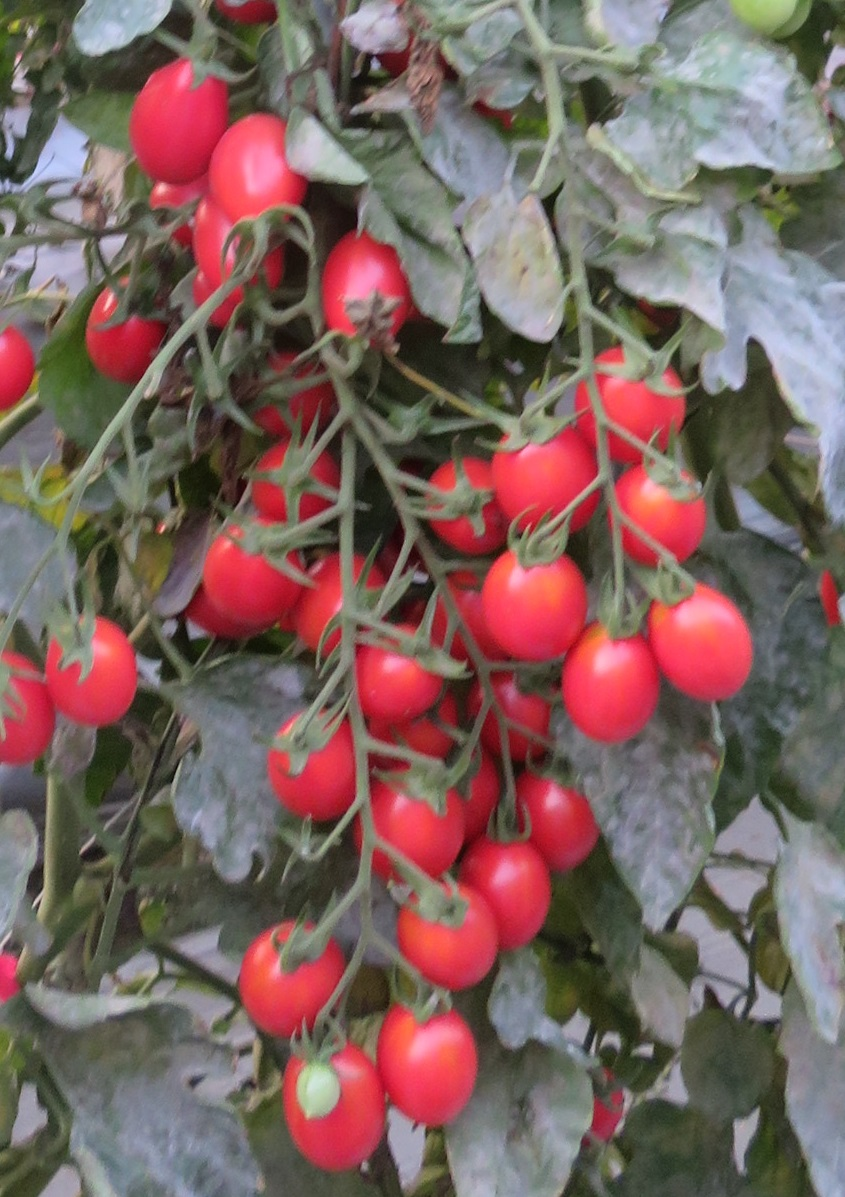red: (644, 583, 760, 703), (377, 1000, 485, 1128), (122, 60, 230, 186), (490, 416, 605, 533), (572, 350, 690, 464), (282, 1042, 387, 1167), (237, 917, 348, 1034), (484, 545, 586, 666), (560, 625, 656, 747), (393, 885, 498, 990), (208, 109, 298, 230), (200, 522, 304, 625), (319, 232, 406, 355), (42, 616, 140, 725), (459, 836, 553, 949), (368, 769, 466, 876), (298, 551, 390, 659), (609, 468, 709, 567), (268, 710, 361, 813), (250, 448, 360, 534), (79, 281, 171, 381), (515, 773, 597, 870), (358, 630, 441, 724), (465, 670, 548, 760), (424, 460, 497, 553), (1, 650, 54, 775), (1, 322, 37, 418)
